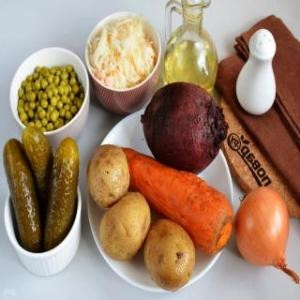beet: (138, 78, 228, 178)
carrot: (97, 145, 235, 259)
cucumber: (1, 132, 42, 262), (42, 134, 80, 262), (22, 125, 57, 212)
onion: (234, 183, 298, 291)
potato: (94, 184, 152, 270), (142, 215, 200, 297), (86, 140, 130, 210)
